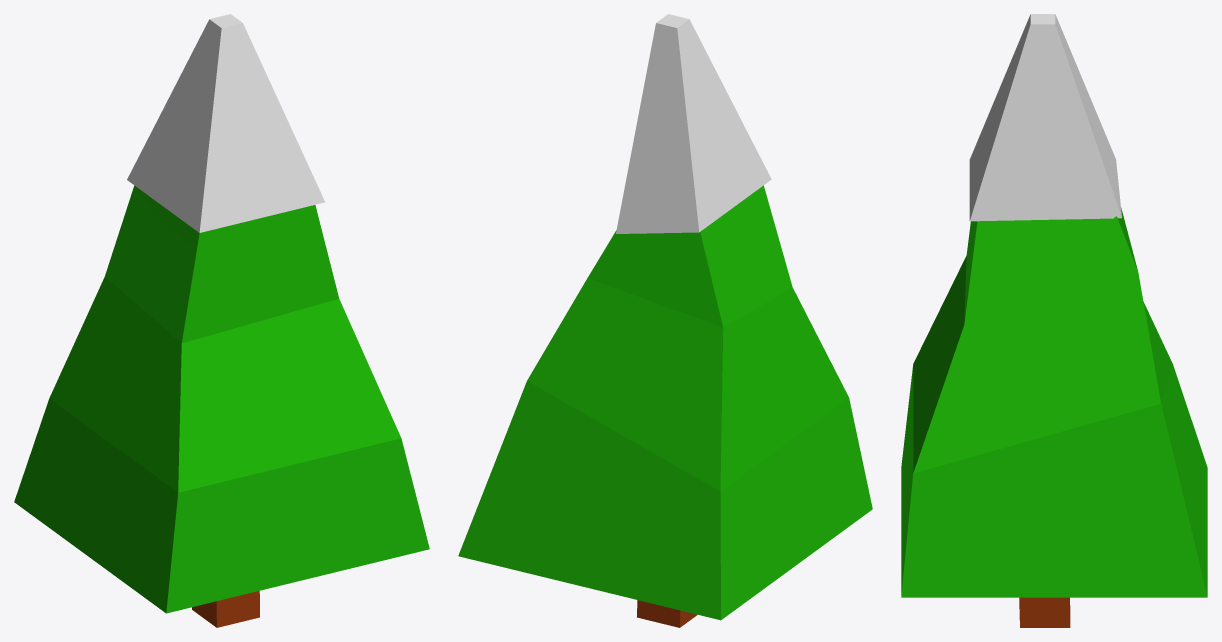
The model's file is Snow tree1.fbx.
The picture shows the model from 3 angles, left to right: view 1: azimuth 30°, elevation 25°; view 2: azimuth 150°, elevation 25°; view 3: azimuth 270°, elevation 25°; orthographic projection.
Visible parts, largest first — view 1: Cube; view 2: Cube; view 3: Cube.
Part boxes in pixels (<box>): Cube: <box>14,14,429,627</box>; Cube: <box>458,14,872,627</box>; Cube: <box>901,14,1207,627</box>.
Size of the model in its own units: 217 by 466 by 217.
